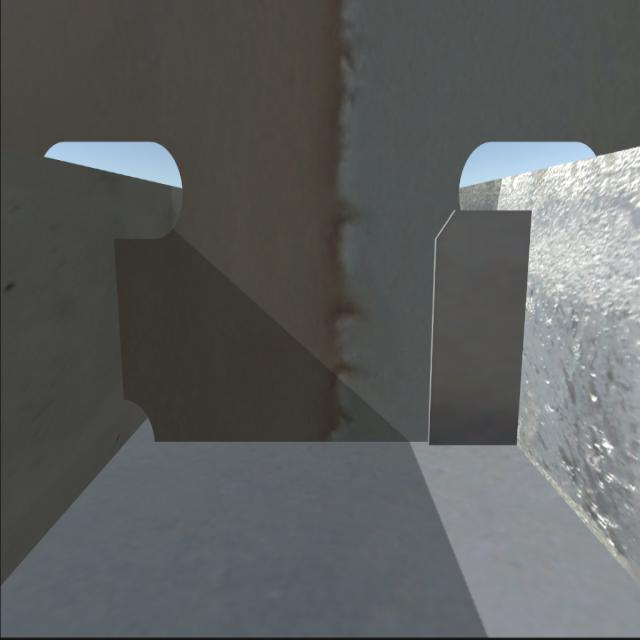fillet_hole: (122, 399, 159, 447)
fillet_yong_jeop_jang: (149, 441, 517, 450)
longi_yong_jeop_jang: (517, 202, 532, 452), (111, 245, 131, 398)
plate_CP03: (428, 201, 522, 438)
